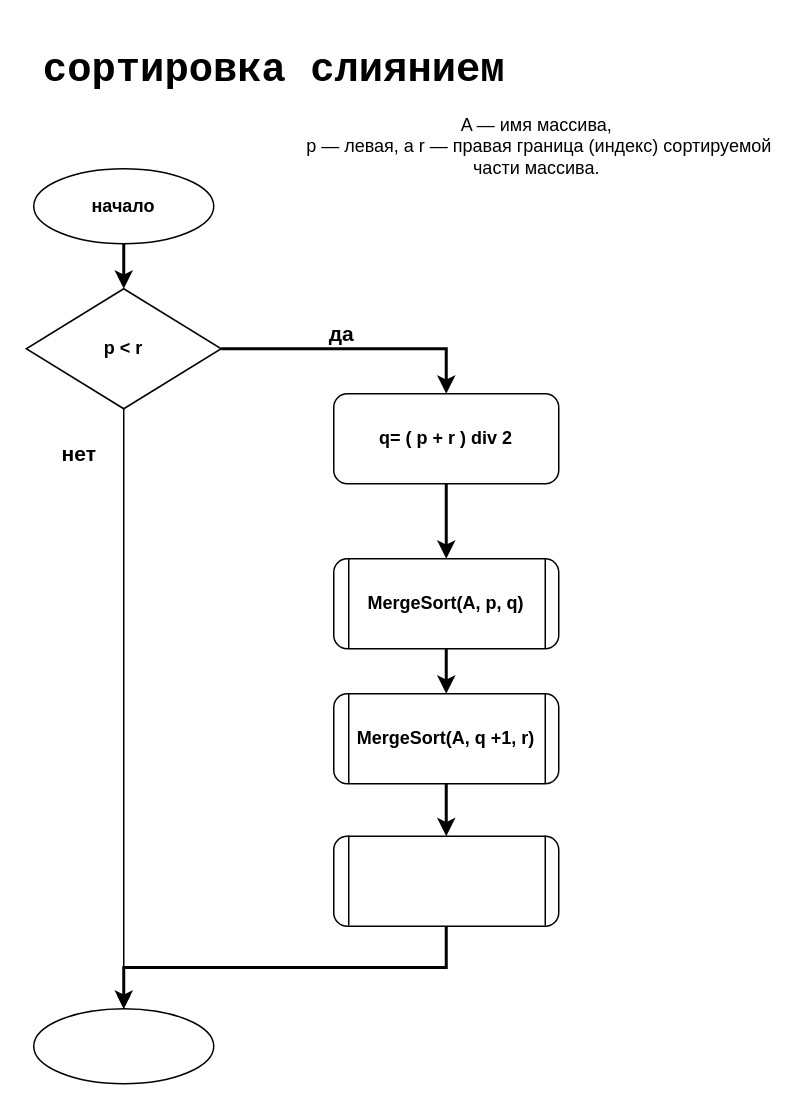
Some shapes in this 810 by 1110 pixel diagram are drawn without their labels. Here are the shapes that lost their labels. From the top down, the centre of each, then its label:
the point at 445,880: MergeSort(A, p, q, r)
the point at 123,1045: конец
